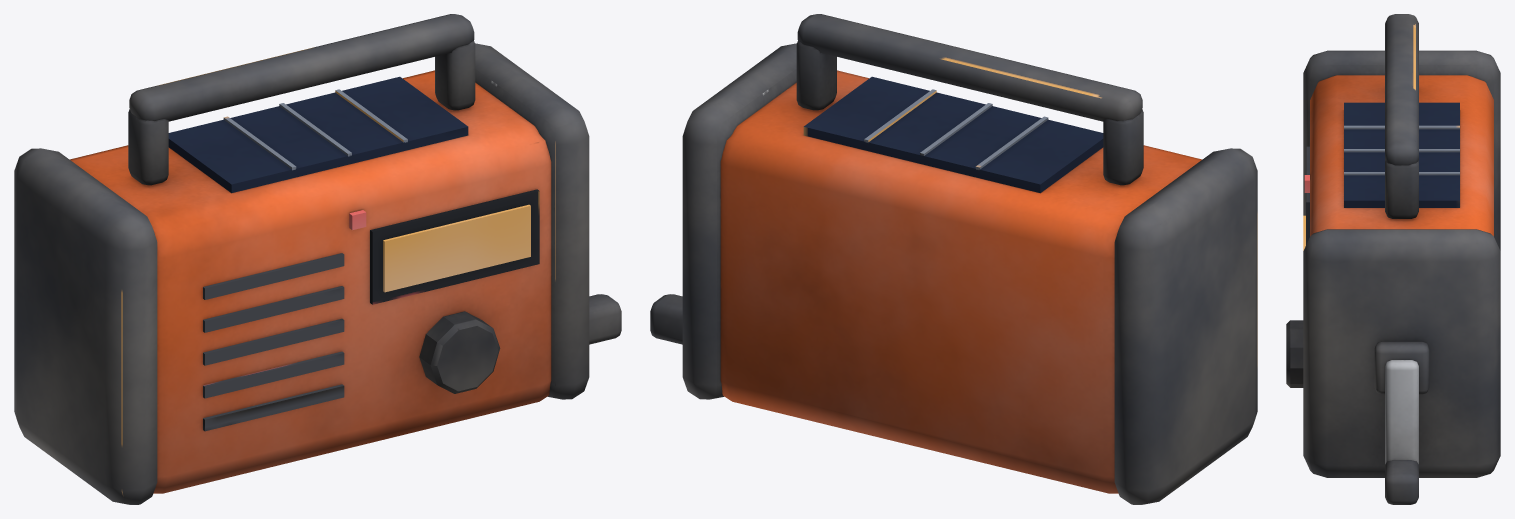
The model's file is crank_radio.fbx.
3 renders of one model, left to right at view 1: azimuth 30°, elevation 25°; view 2: azimuth 150°, elevation 25°; view 3: azimuth 270°, elevation 25°, orthographic. The views are drawn at different scales.
Visible parts, largest first — view 1: Body, Glow, Knob, Crank; view 2: Body, Crank; view 3: Body, Crank, Knob.
Part boxes in pixels (left/top/right/bottom): Body: left=14, top=14, right=589, bottom=504; Glow: left=349, top=204, right=530, bottom=292; Knob: left=419, top=311, right=500, bottom=393; Crank: left=589, top=294, right=621, bottom=344; Body: left=682, top=14, right=1257, bottom=504; Crank: left=650, top=294, right=682, bottom=344; Body: left=1303, top=14, right=1500, bottom=477; Crank: left=1374, top=341, right=1429, bottom=504; Knob: left=1286, top=320, right=1303, bottom=387.
Bounding box in the file's own units: 0.795 × 0.5 × 0.315.
1 material, 1 textured.
